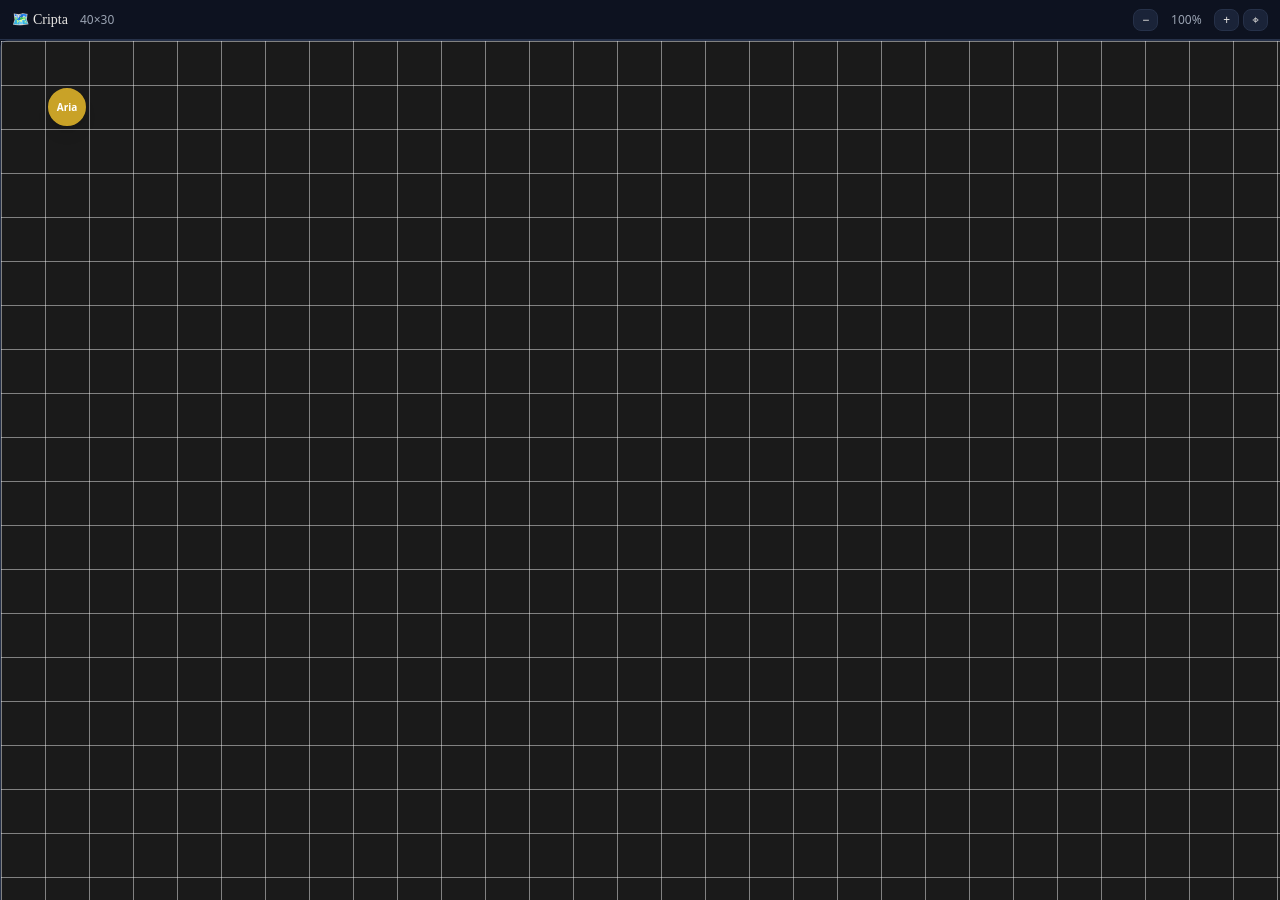
Test: Tabletop — painel de propriedades do token (RV-040) › o mestre abre o painel ao selecionar o token
Press the mouse on the button "Aria" at [67, 107], box [48, 88, 86, 126]
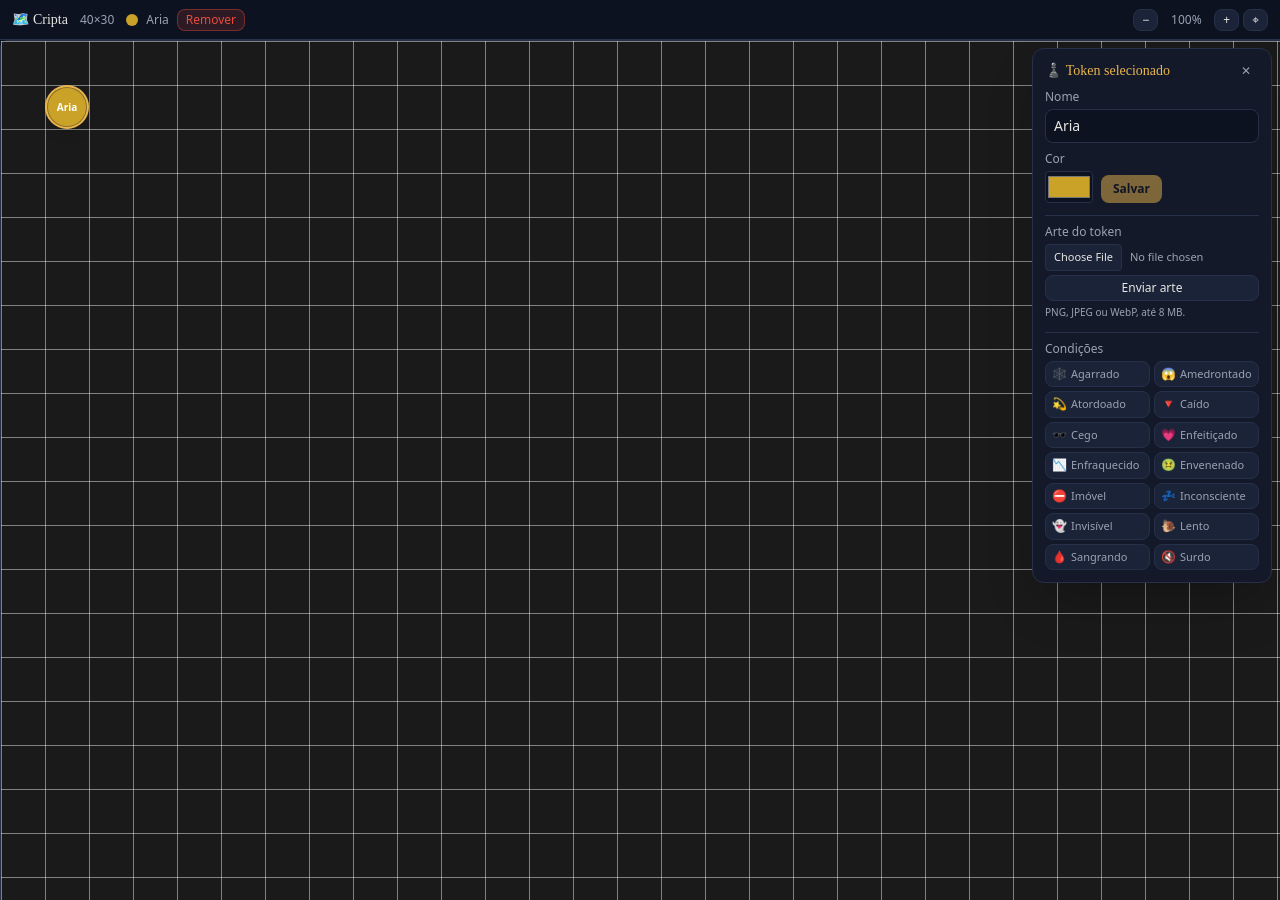
Check: the field labelled "Nome" holds "Aria", box [1045, 109, 1259, 143]
